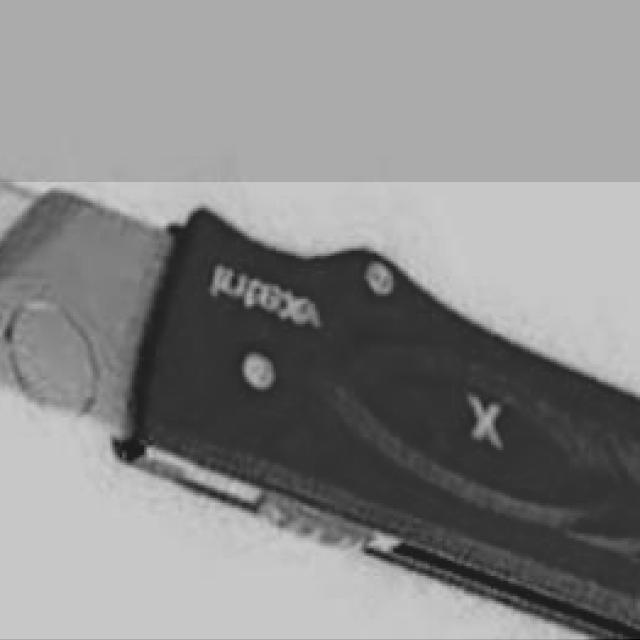estilete: (0, 183, 640, 639)
